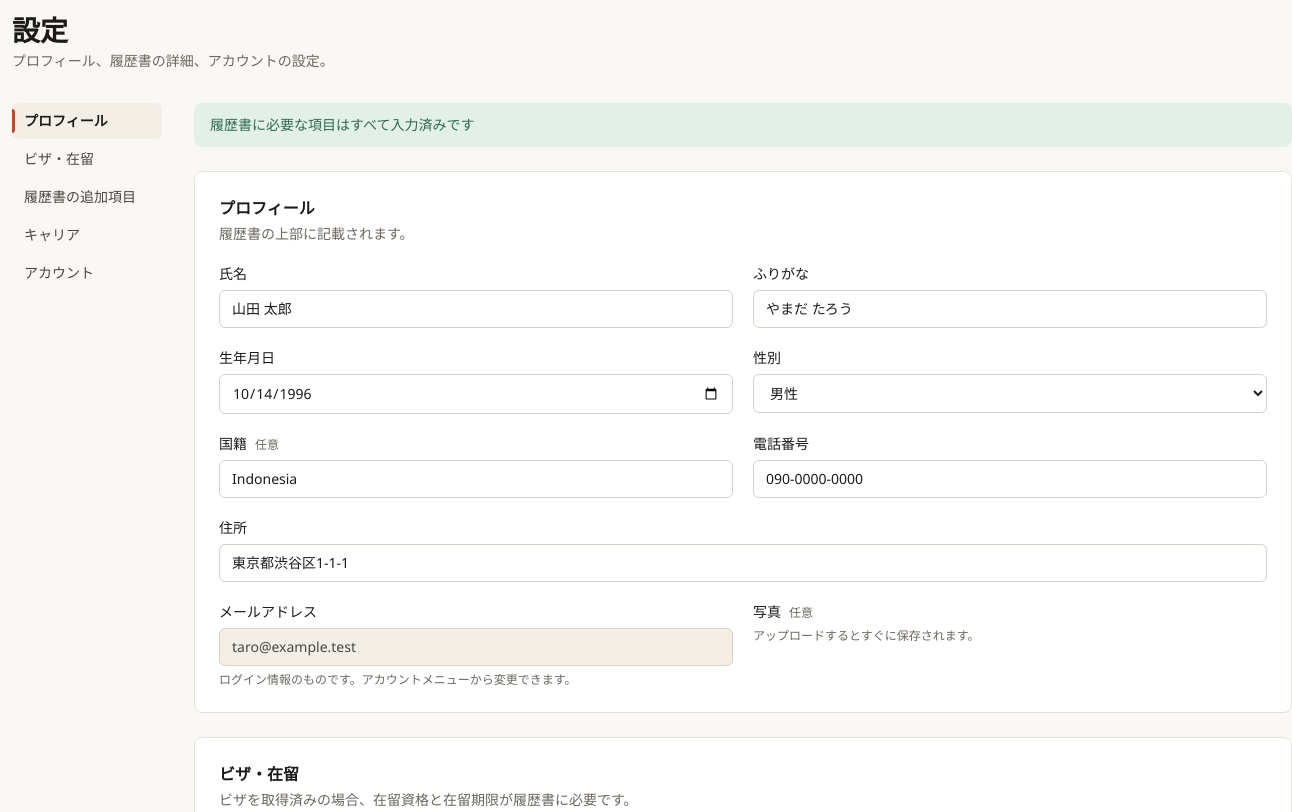
Test: settings page, the save bar › sends only what changed, and leaves once it's saved
This screenshot has width=1292, height=812.
Replace the text in the field labelled "ふりがな" with "すずき はなこ". click: (1010, 309)
box: [753, 290, 1267, 328]
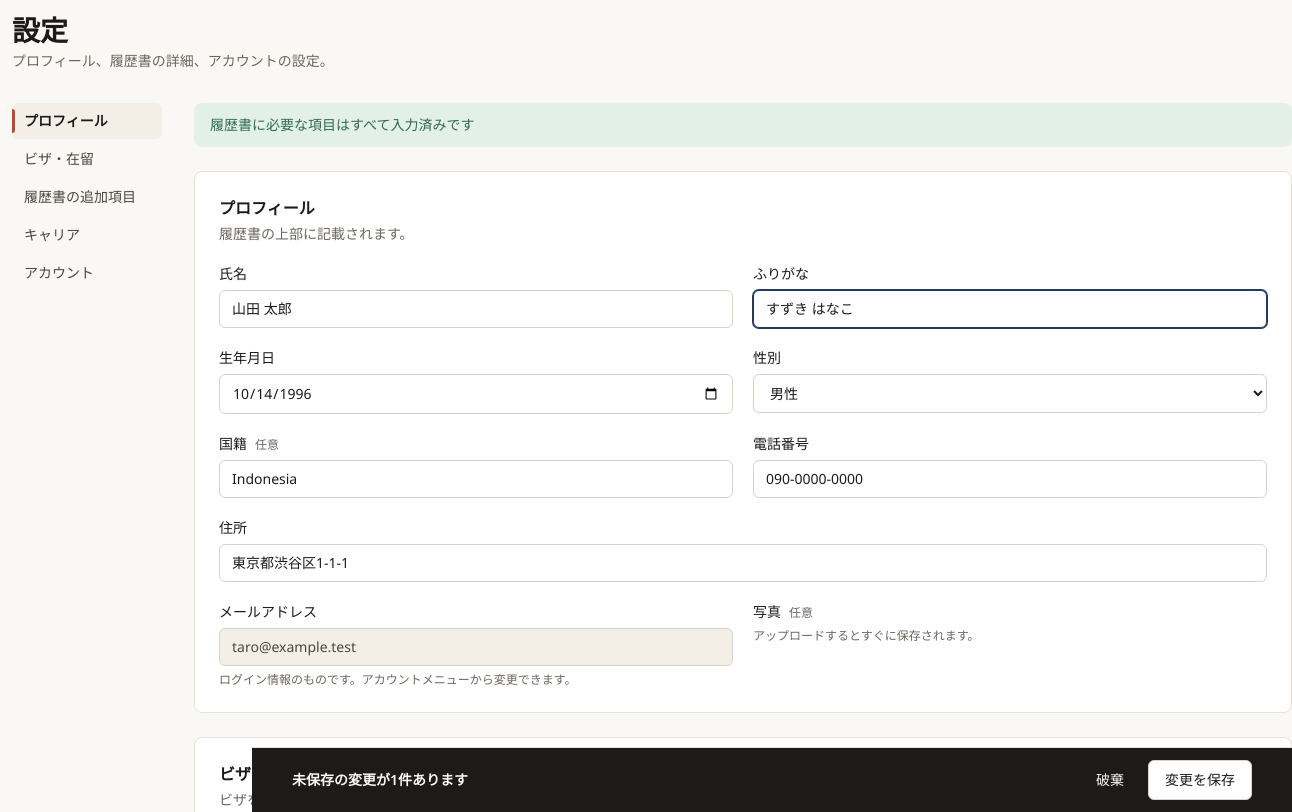
Click the button "変更を保存". click: (1200, 780)
box: [1148, 760, 1252, 800]
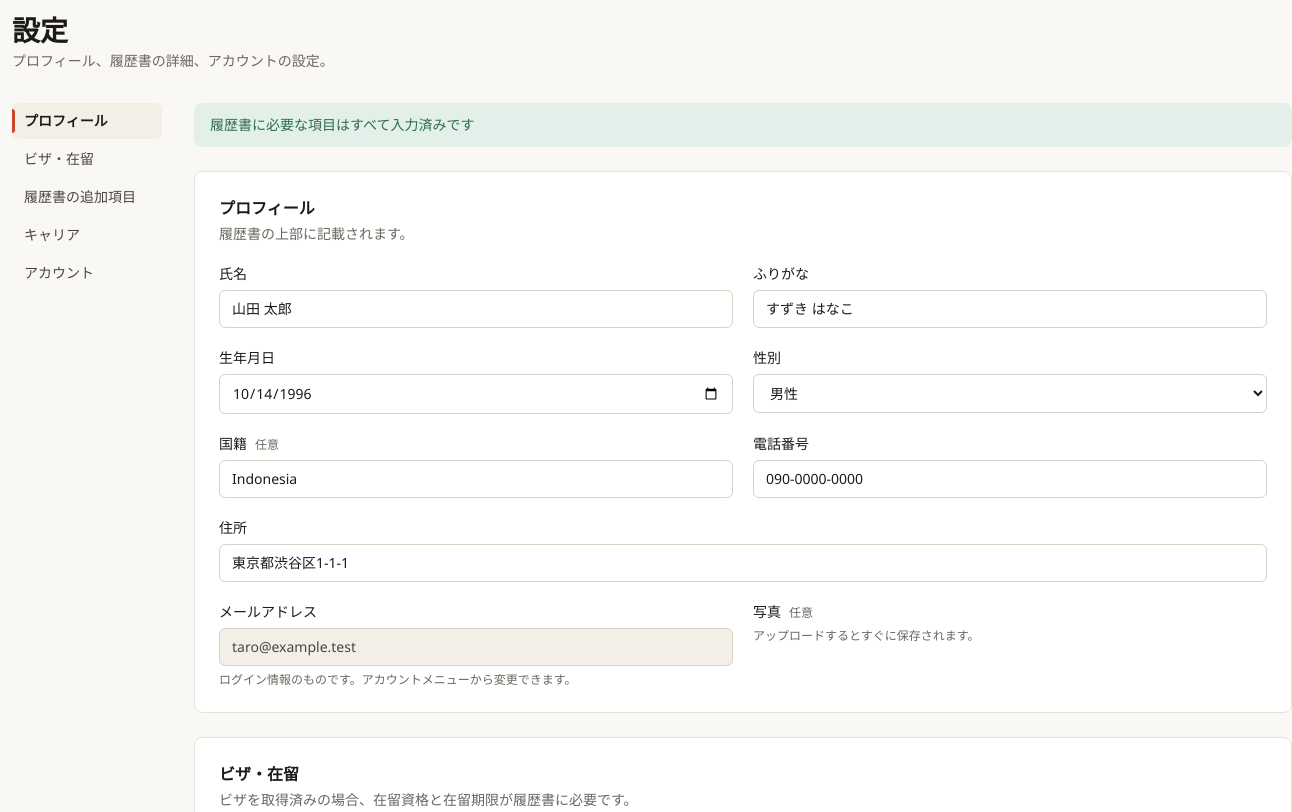
Expected: the button "変更を保存" is gone
